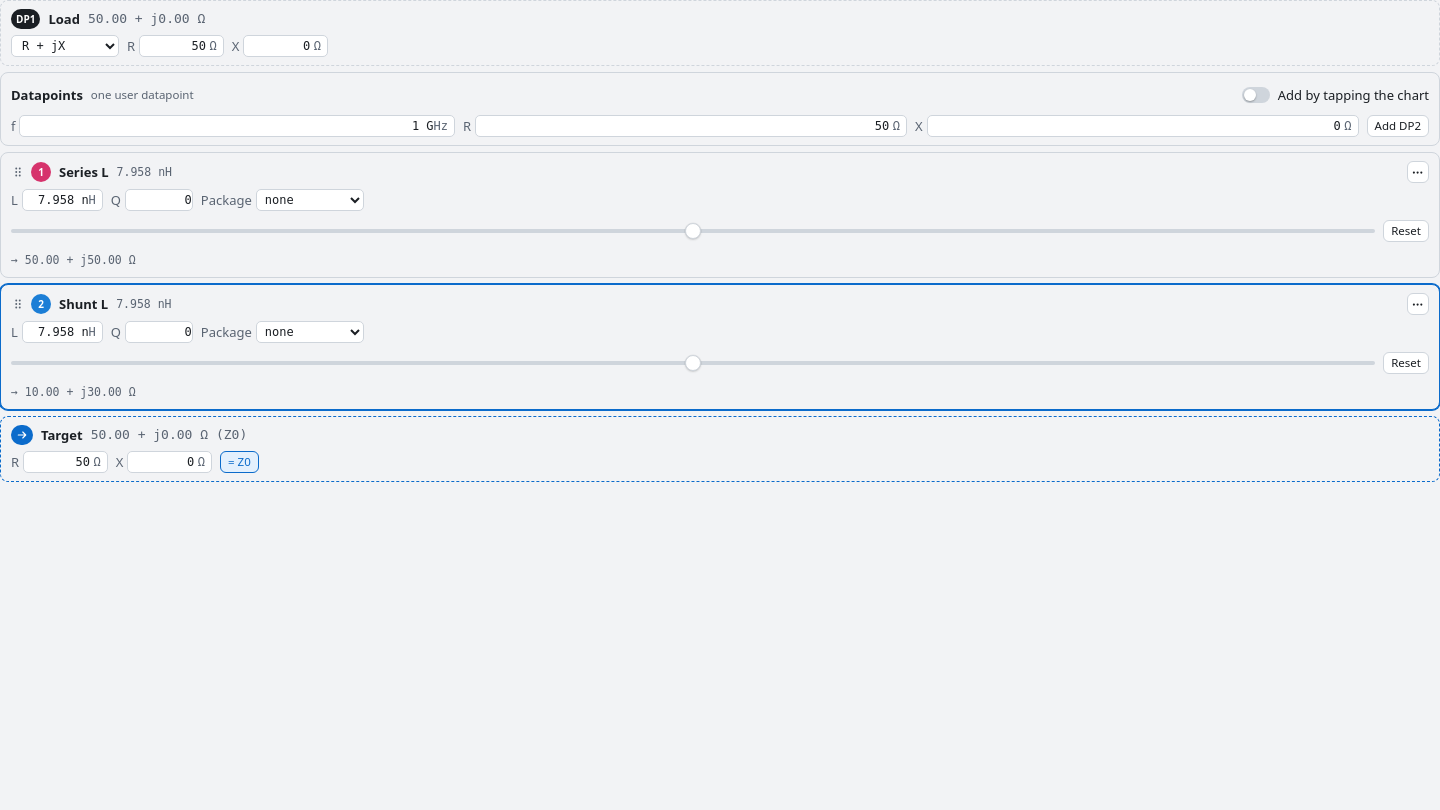
Test: ladder card controls › a coarse pointer collapses them into one overflow menu per card
Expected: the button "Delete" is not shown
Expected: the button "Winding…" is not shown
Click the button named "More for element 1": (1418, 172) [1407,161,1429,183]
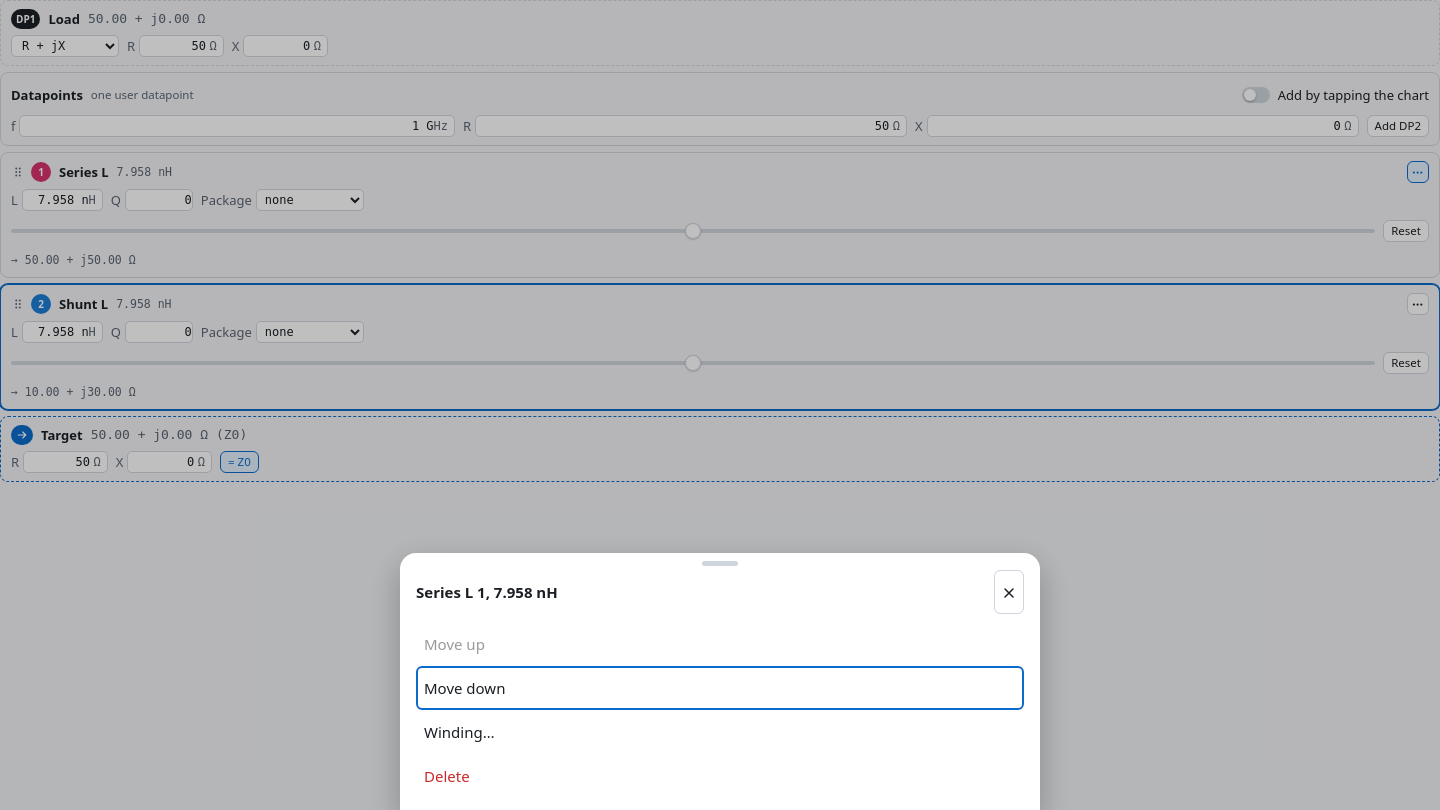
Expected: the menu items read "Move up", "Move down", "Winding…", "Delete", in this order
Expected: the menu item "Move up" is disabled, [416,622,1024,666]
Click the menu item "Delete": (447, 776) [416,754,1024,798]
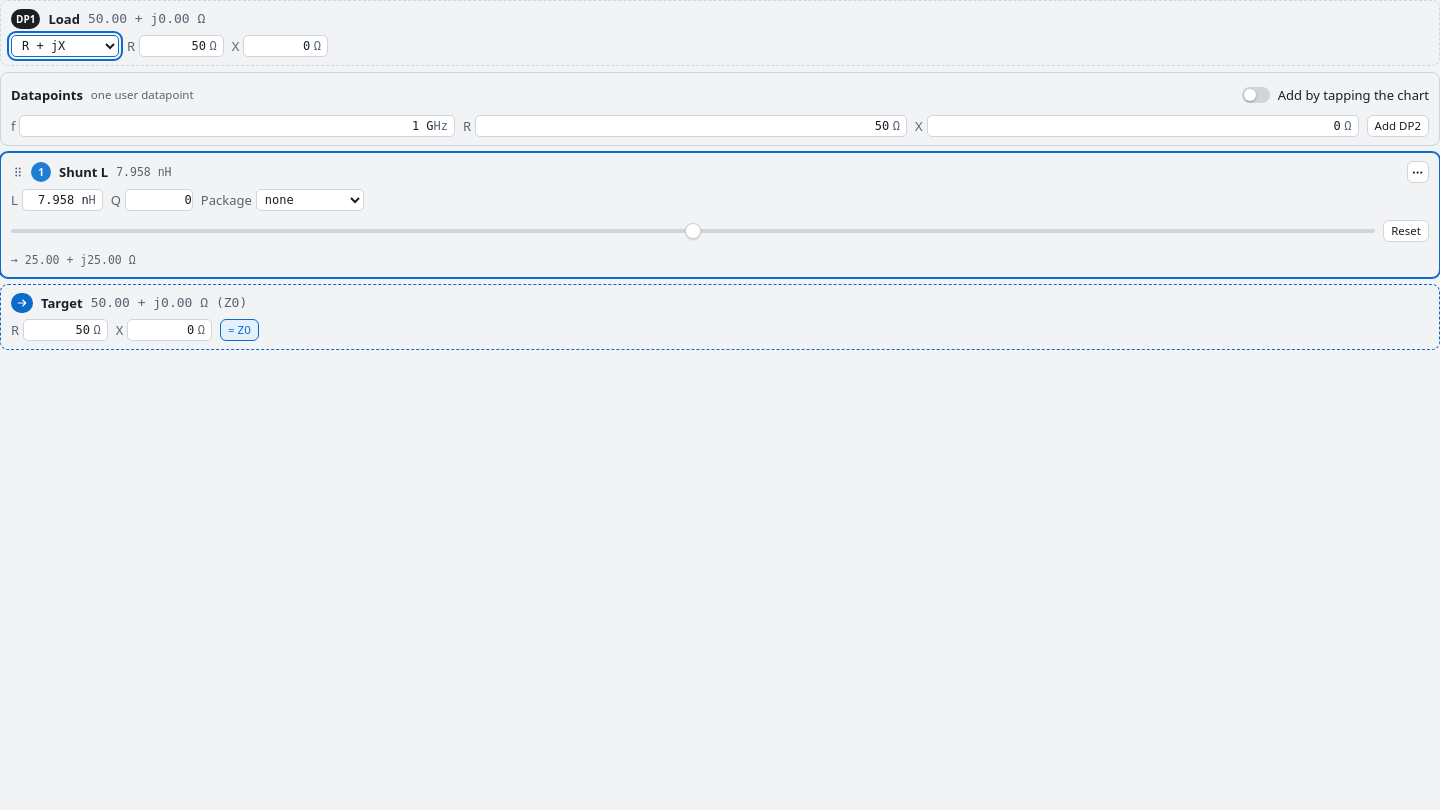
Expected: the menu is gone
